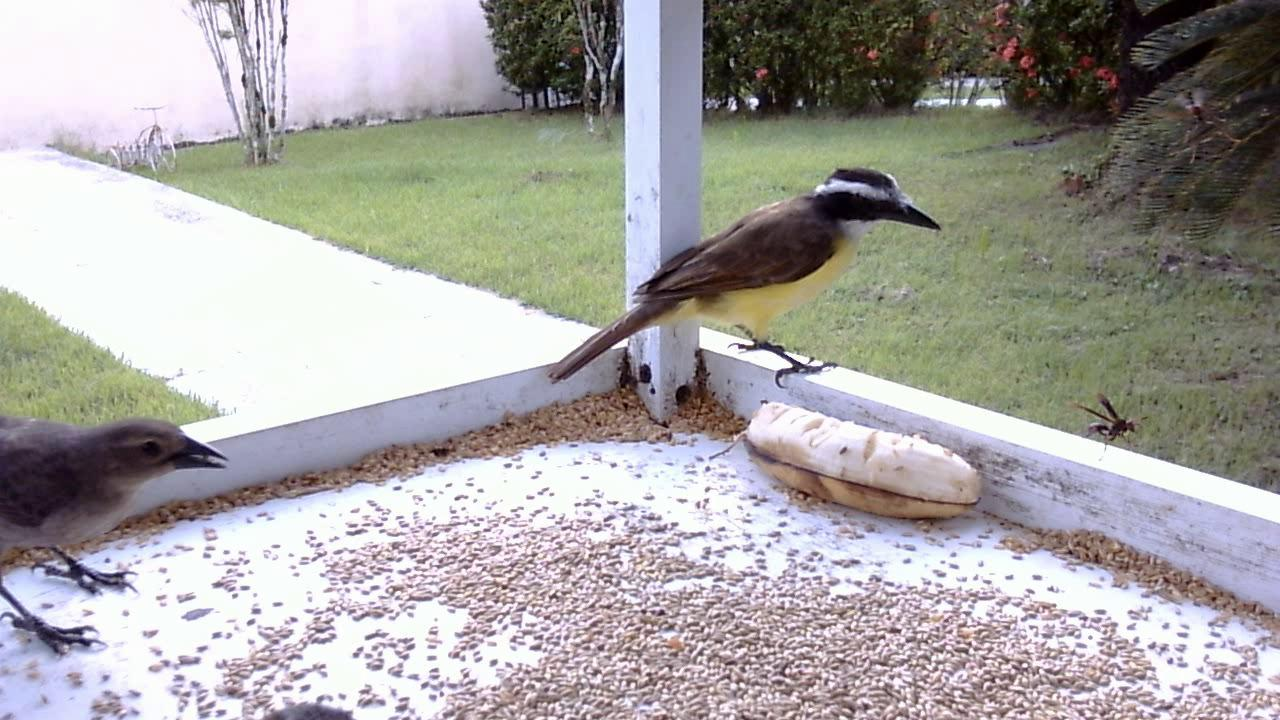bem_te_vi: (539, 159, 939, 423)
chupim: (1, 389, 242, 675)
